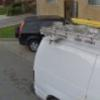cars: (31, 22, 100, 99), (14, 15, 81, 54)
